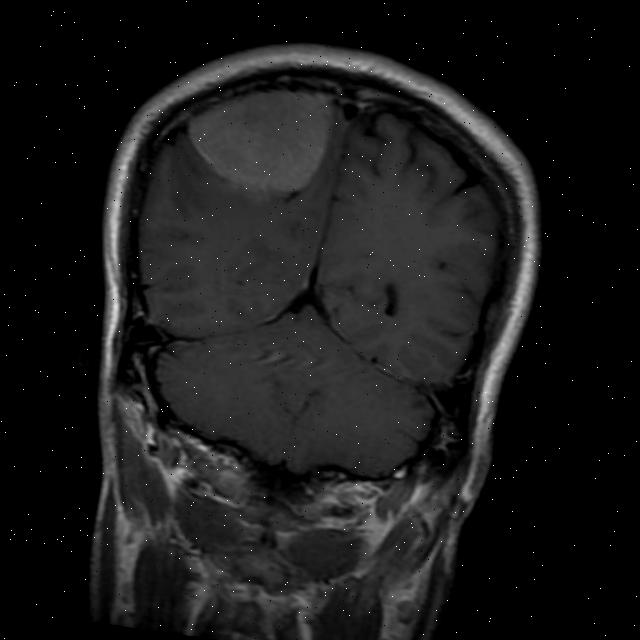Meningioma: (182, 73, 334, 201)
